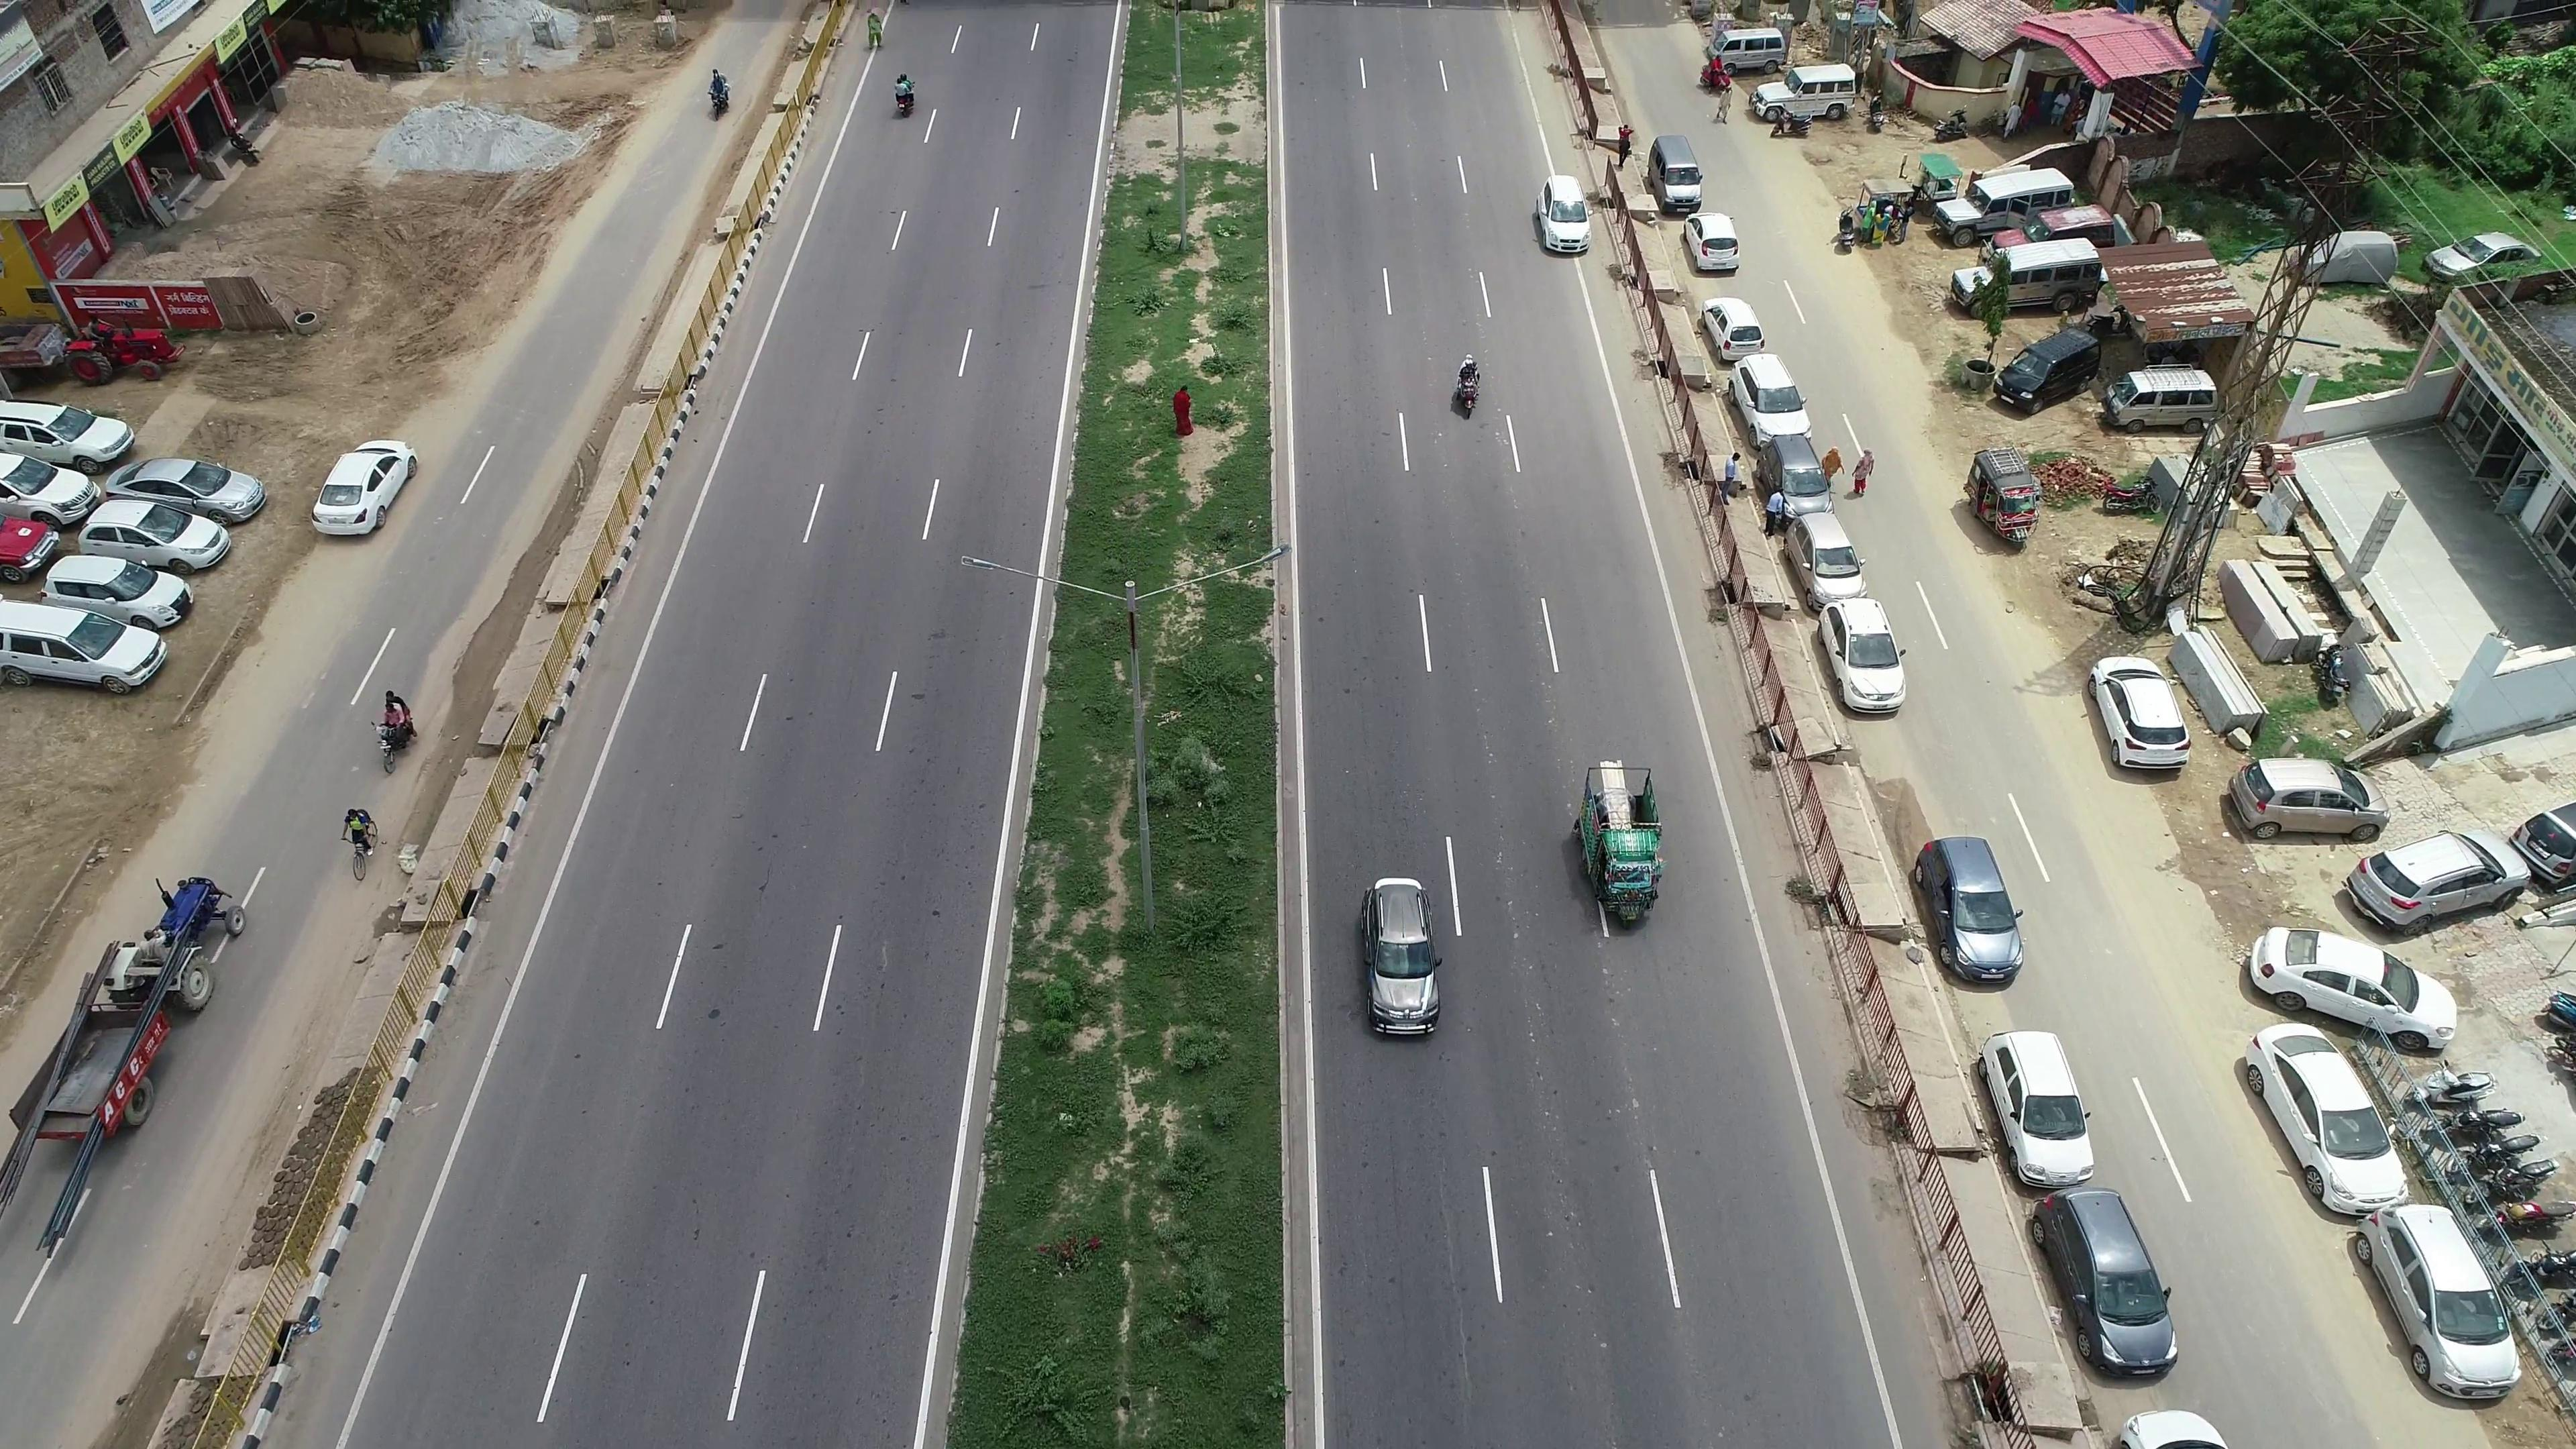Longitudinal_cracks: (1437, 1177, 1474, 1415)
